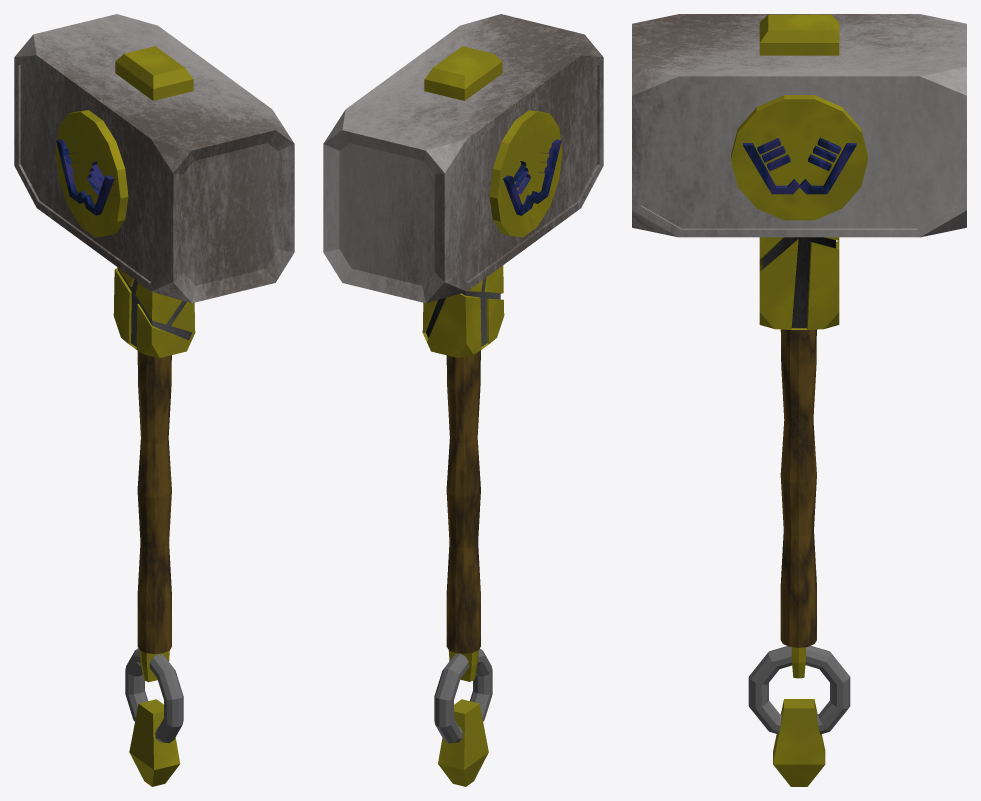
Rendered from Pilao.fbx.
The picture shows the model from 3 angles, left to right: view 1: azimuth 30°, elevation 25°; view 2: azimuth 150°, elevation 25°; view 3: azimuth 270°, elevation 25°; orthographic projection. The views are drawn at different scales.
Parts seen in each view (by area): view 1: Pilão; view 2: Pilão; view 3: Pilão.
Part boxes in pixels (x1,y1,x2,y2): Pilão: (14,14,294,786); Pilão: (323,14,603,786); Pilão: (632,14,966,786).
Bounding box in the file's own units: 35.8 × 172 × 68.71.
